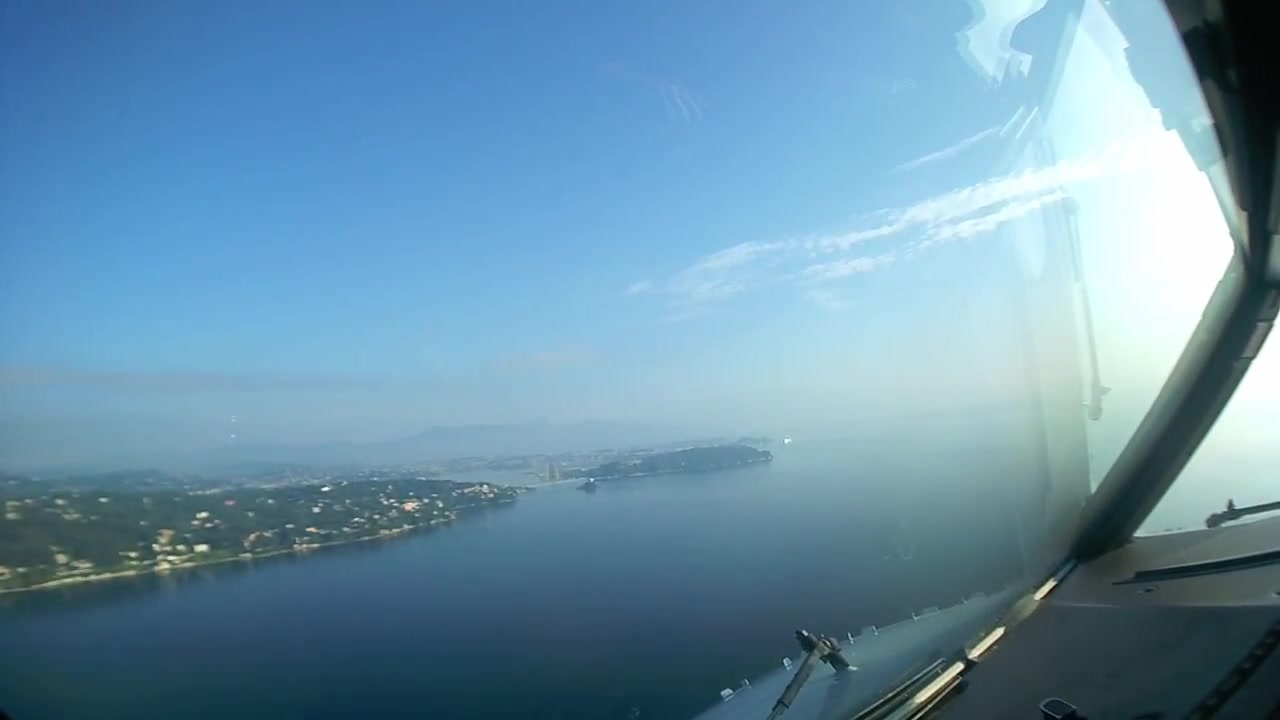runway: (544, 460, 560, 482)
